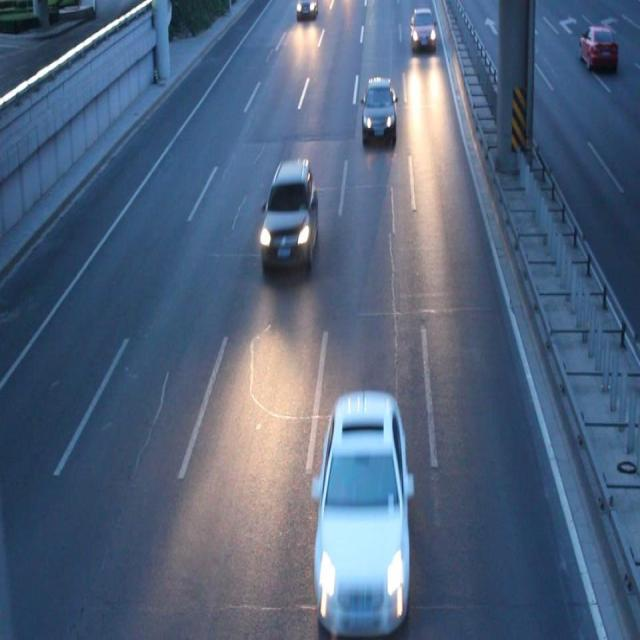car: (312, 393, 414, 604), (258, 159, 317, 271), (361, 78, 396, 144), (409, 10, 434, 52)
